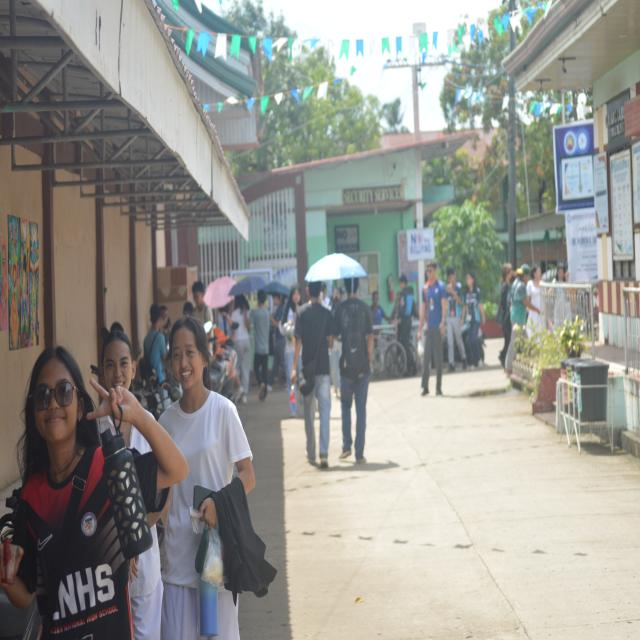person: (2, 347, 188, 639), (160, 317, 255, 639), (291, 282, 334, 467), (335, 278, 373, 463), (130, 498, 169, 639), (505, 264, 539, 375), (419, 261, 446, 395), (280, 284, 301, 417), (462, 272, 485, 368), (446, 267, 467, 372), (250, 290, 270, 400), (232, 295, 250, 403), (398, 275, 417, 375), (497, 263, 514, 367), (267, 294, 285, 390), (370, 291, 390, 325), (527, 264, 541, 309)
